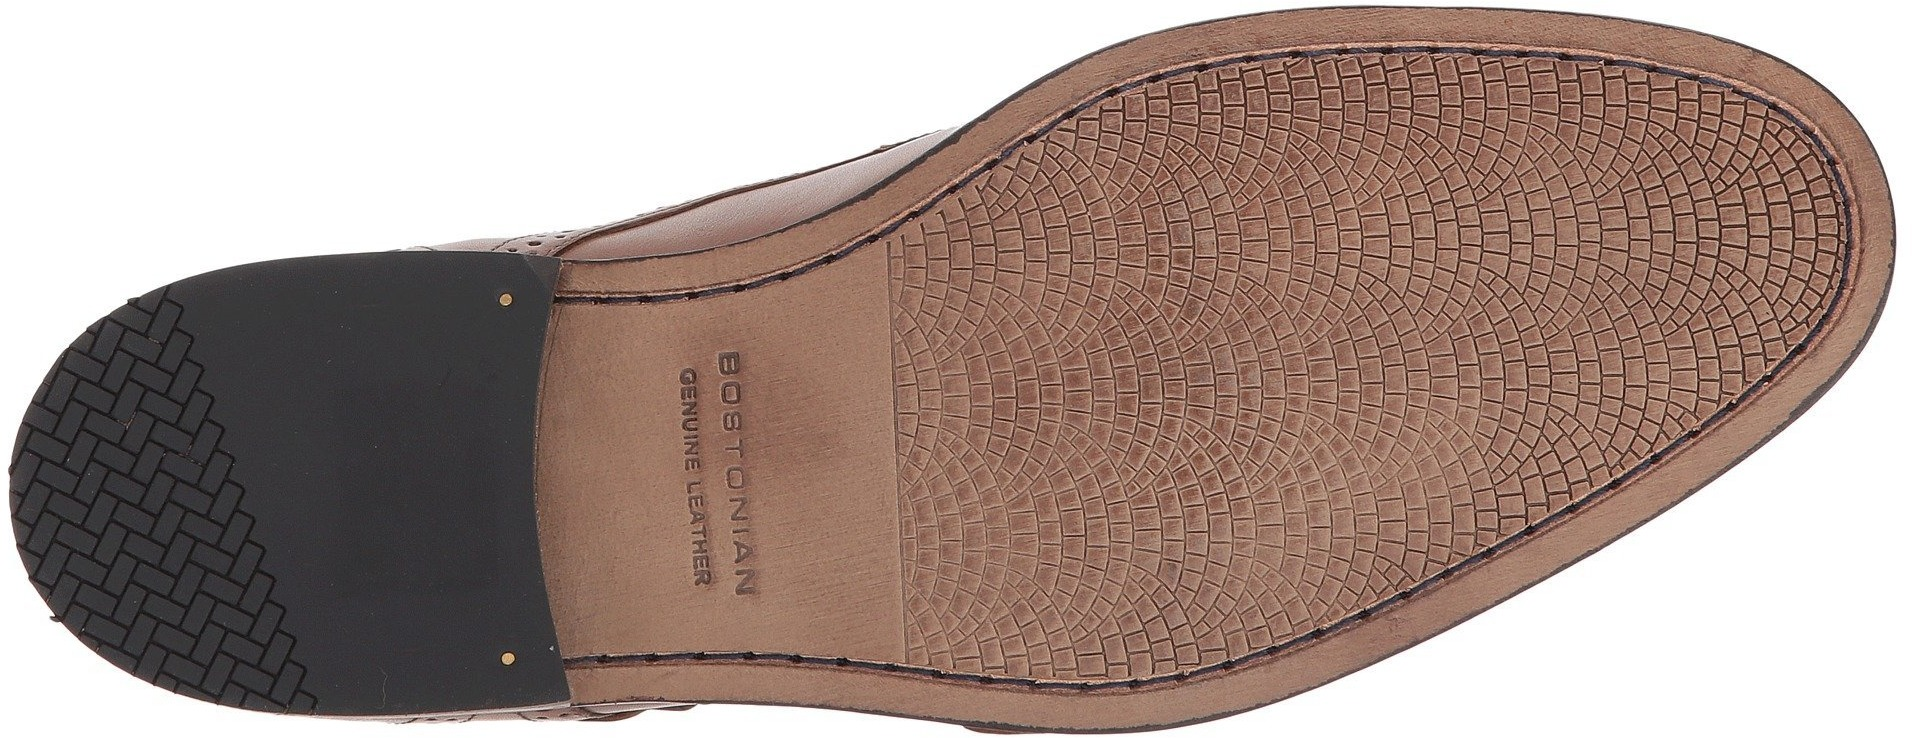exclude: (535, 199, 897, 718)
other: (248, 278, 463, 482), (290, 488, 482, 647)
quad: (1129, 326, 1378, 582), (1141, 88, 1371, 326), (886, 231, 1123, 438), (1383, 270, 1610, 473), (910, 451, 1123, 649), (1614, 131, 1810, 327), (1375, 74, 1564, 268), (29, 400, 213, 557), (120, 564, 262, 683)
text: (668, 464, 793, 590), (667, 328, 780, 449)
